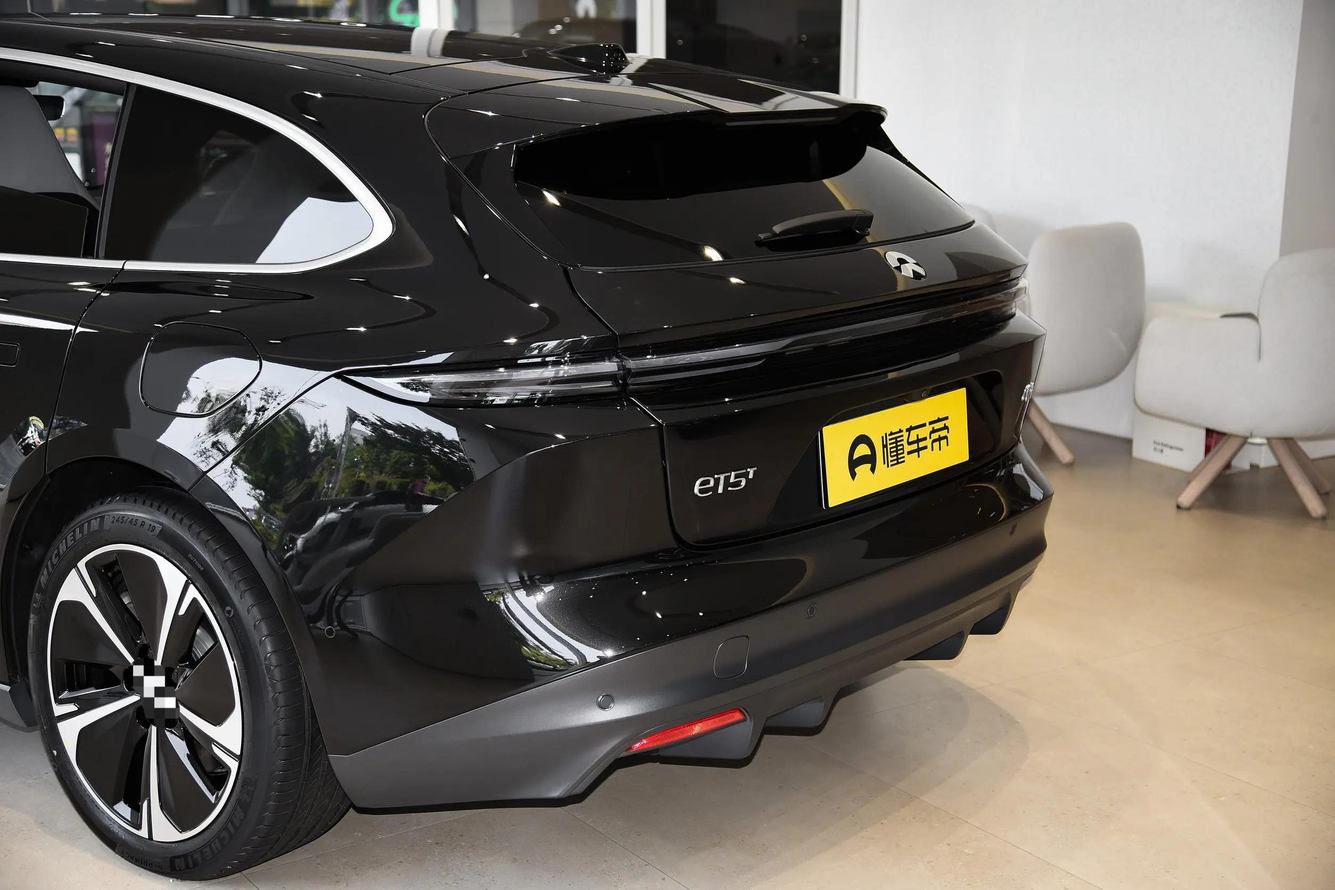NIO: (885, 249, 926, 279)
